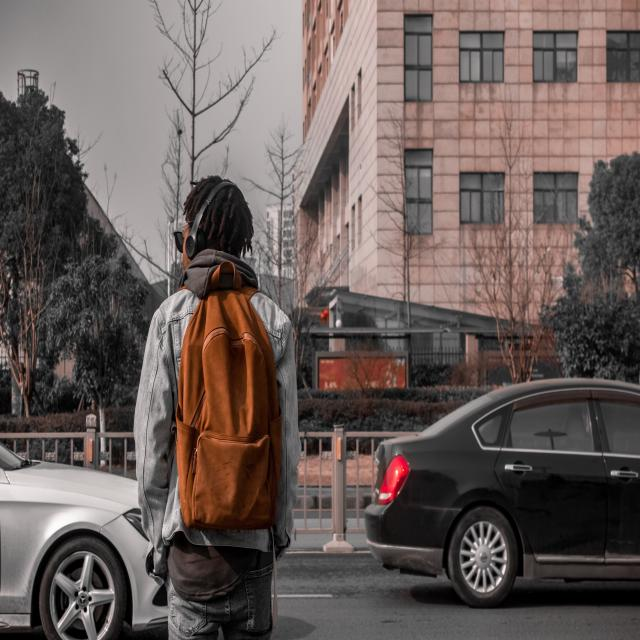backpack: (176, 272, 280, 532)
